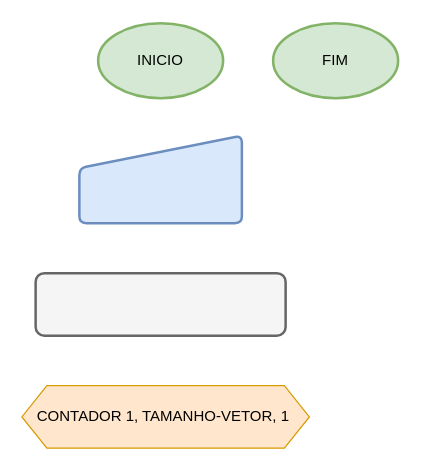
Image size: 421x470. Some labels were removed from this diagram. Here are the shapes that lost their labels. From the top down, the centre of each, then its label:
At (x=160, y=179): "TAMANHO-VETOR".
At (x=160, y=303): "VETOR[TAMANHO-VETOR]".
